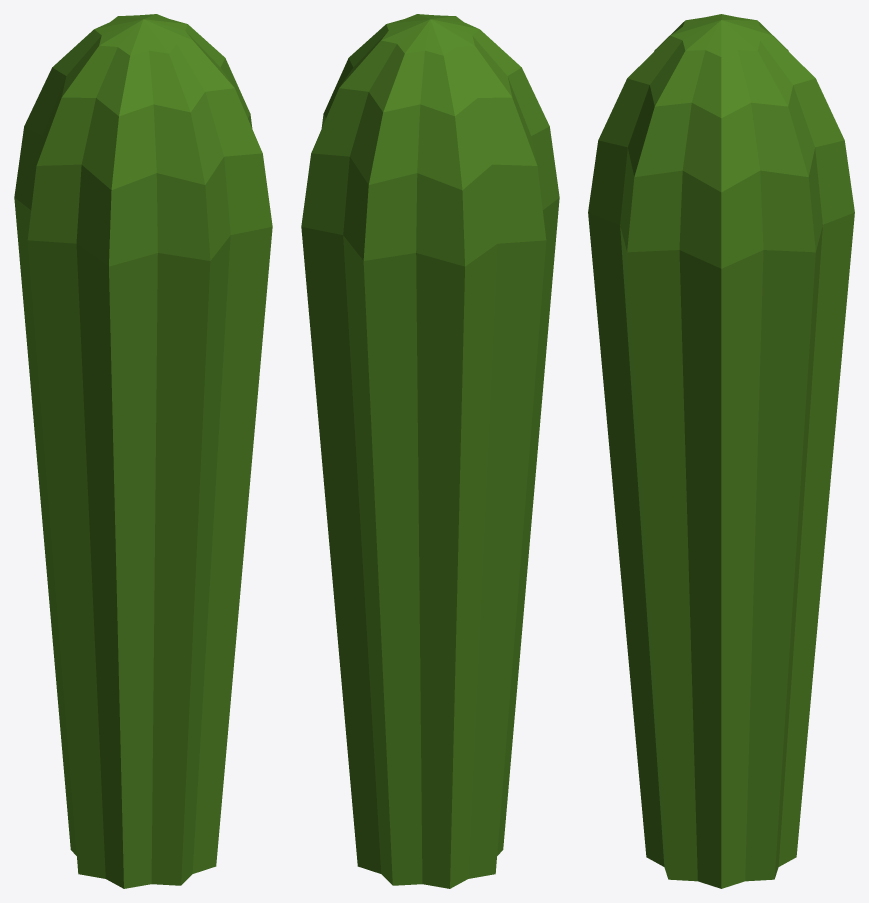
The model's file is Cactus_19_A.fbx.
3 renders of one model, left to right at view 1: azimuth 30°, elevation 25°; view 2: azimuth 150°, elevation 25°; view 3: azimuth 270°, elevation 25°, orthographic.
Visible parts, largest first — view 1: Cactus_19_A; view 2: Cactus_19_A; view 3: Cactus_19_A.
Boxes of the visible parts, left/top/right/bottom form: Cactus_19_A: left=14, top=14, right=272, bottom=888; Cactus_19_A: left=301, top=14, right=559, bottom=888; Cactus_19_A: left=588, top=14, right=854, bottom=888.
Bounding box in the file's own units: 70.21 × 243 × 70.21.
